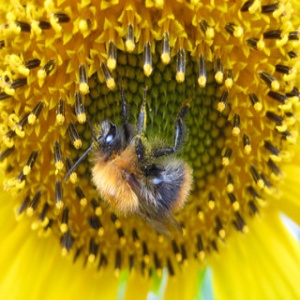bee: (88, 120, 195, 229)
